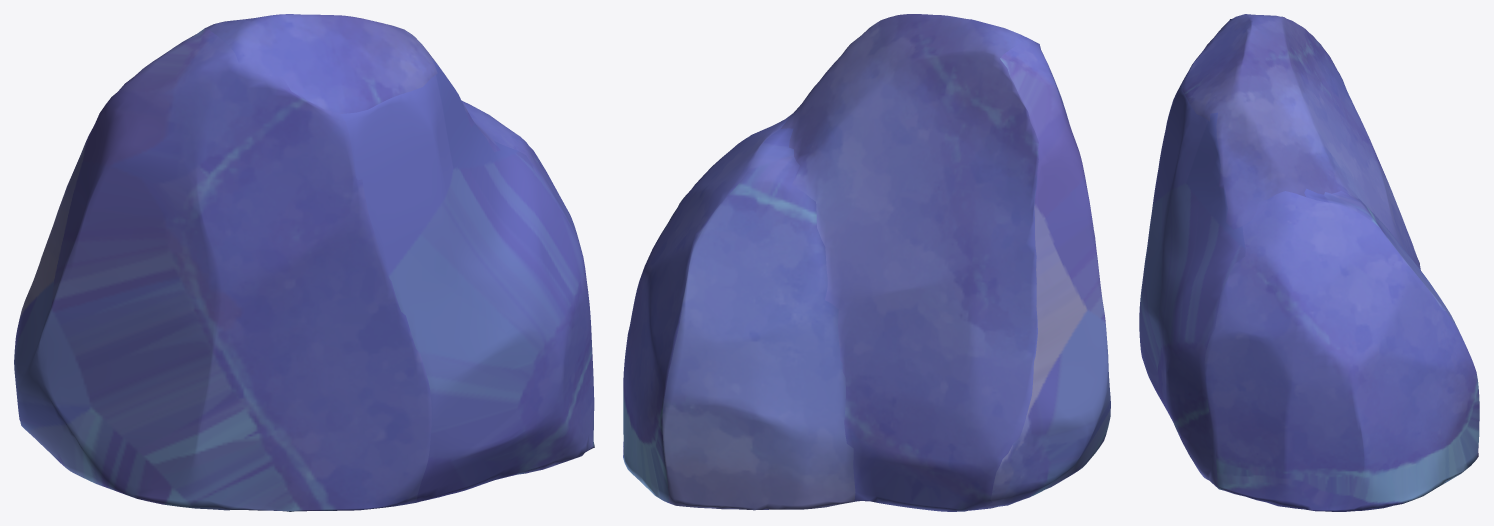
Rendered from StylizedRockLarge2.fbx.
3 views of the same model, side by side, from view 1: azimuth 30°, elevation 25°; view 2: azimuth 150°, elevation 25°; view 3: azimuth 270°, elevation 25° (orthographic). The views are drawn at different scales.
Visible parts, largest first — view 1: StylizedRockLarge2; view 2: StylizedRockLarge2; view 3: StylizedRockLarge2.
Boxes of the visible parts, box(x1,y1,x2,y2) form: StylizedRockLarge2: box(14, 14, 594, 511); StylizedRockLarge2: box(623, 14, 1110, 511); StylizedRockLarge2: box(1139, 14, 1479, 511).
Size of the model in its own units: 475 by 430 by 357.
